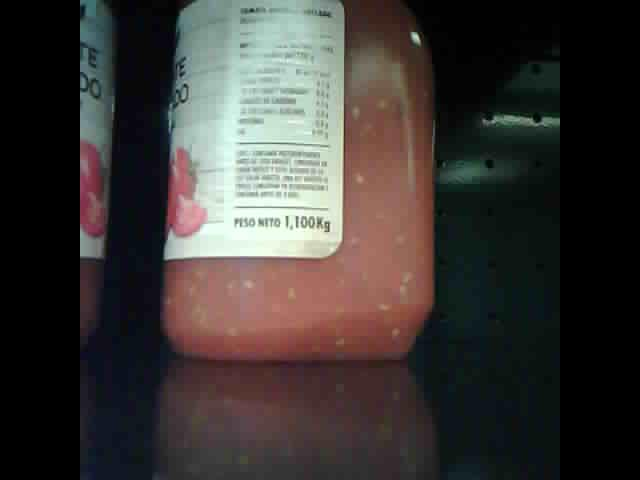tomate: (156, 3, 438, 359), (82, 1, 120, 345)
